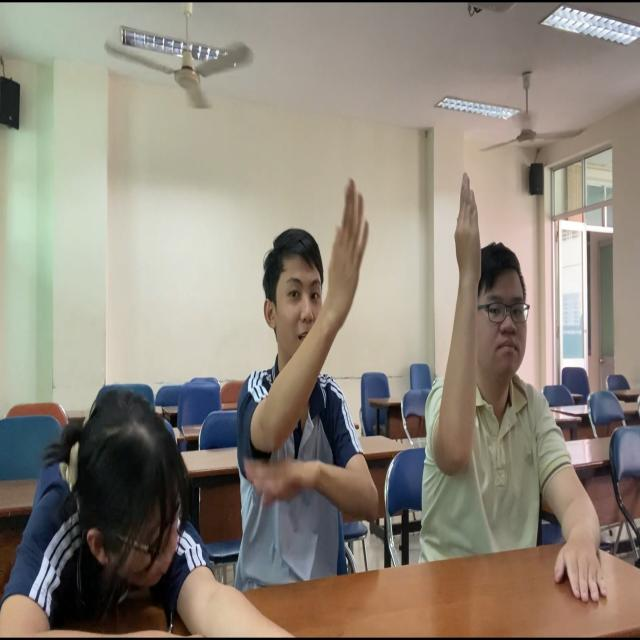raise_hand: (414, 158, 586, 578)
sleep: (2, 396, 208, 640)
